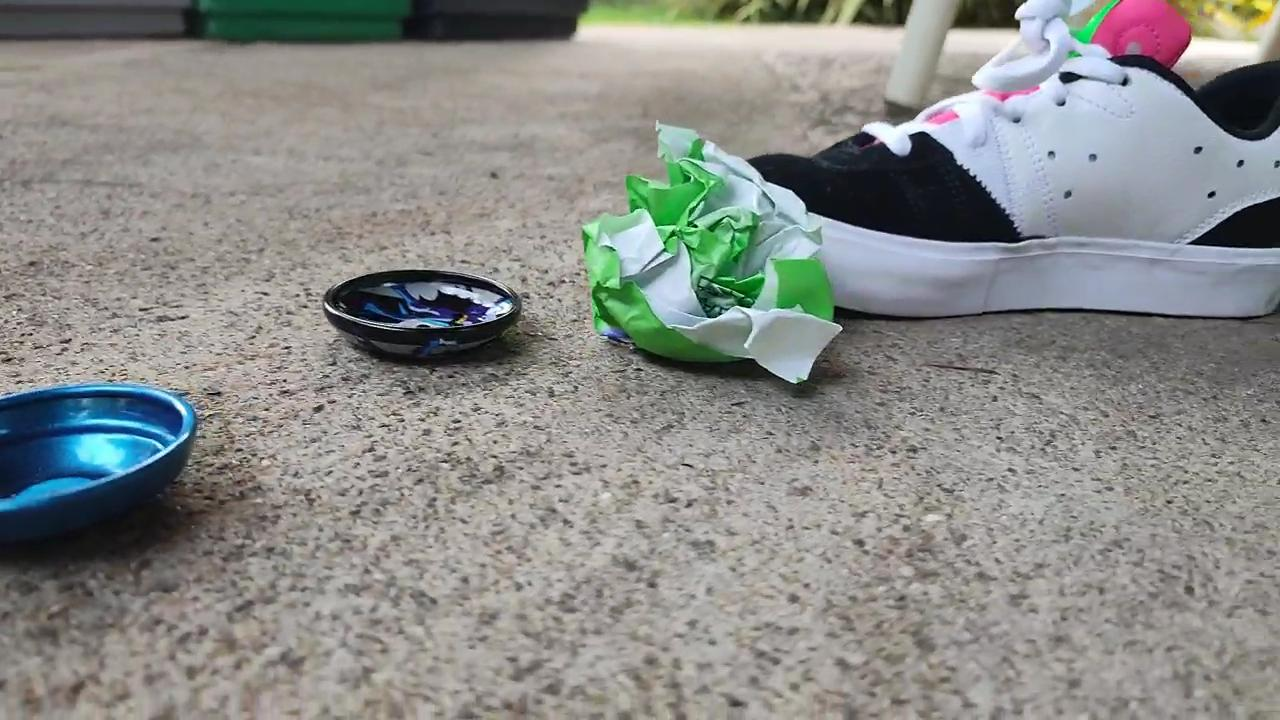Paper: (564, 103, 856, 406)
